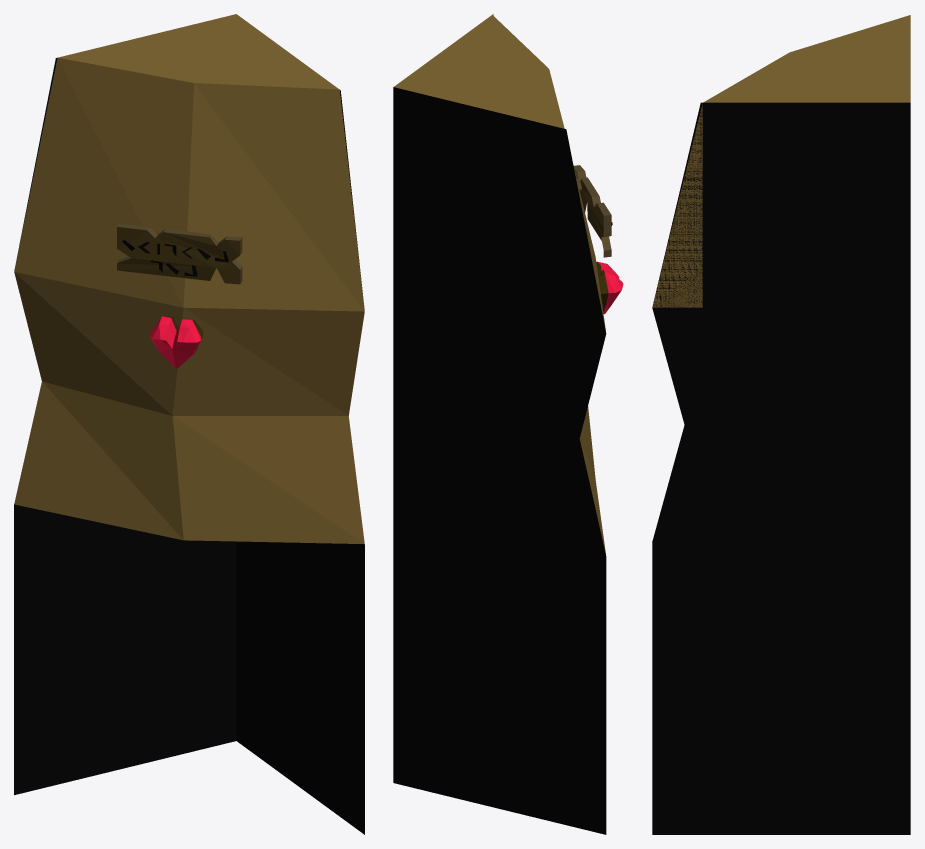
File: obj_filled_recess_0.obj
The picture shows the model from 3 angles, left to right: view 1: azimuth 30°, elevation 25°; view 2: azimuth 150°, elevation 25°; view 3: azimuth 270°, elevation 25°; orthographic projection. The views are drawn at different scales.
Bounding box in the file's own units: 1 × 3.12 × 1.
